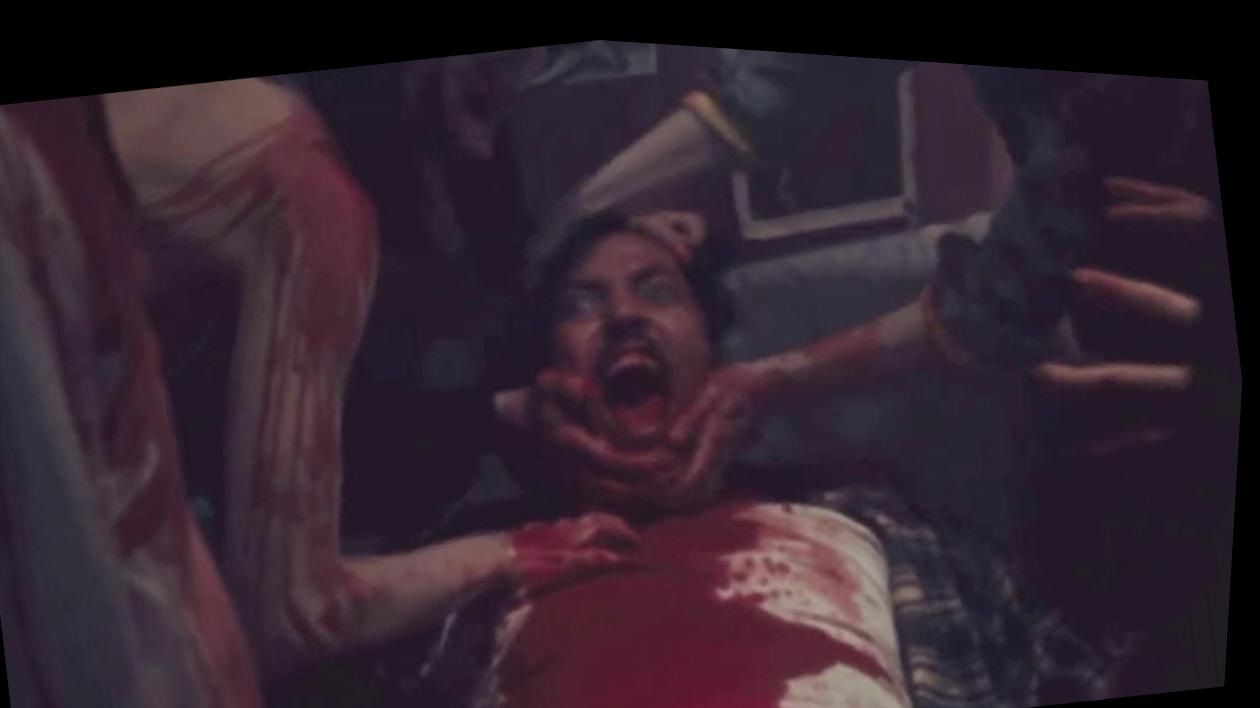Fire: (115, 74, 920, 708), (0, 95, 268, 708)
